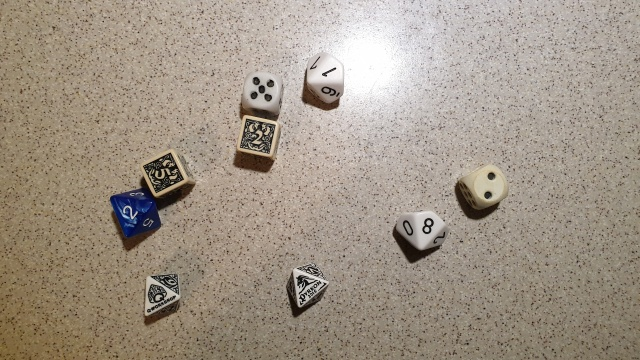d10-1: (299, 46, 352, 109)
d10-2: (106, 184, 166, 237)
d10-8: (393, 206, 456, 260)
d6-2: (456, 160, 511, 213)
d6-5: (235, 67, 286, 113)
d6p-2: (231, 113, 287, 160)
d6p-5: (138, 148, 200, 199)
d8p-1: (282, 260, 334, 317)
d8p-8: (139, 266, 188, 322)
